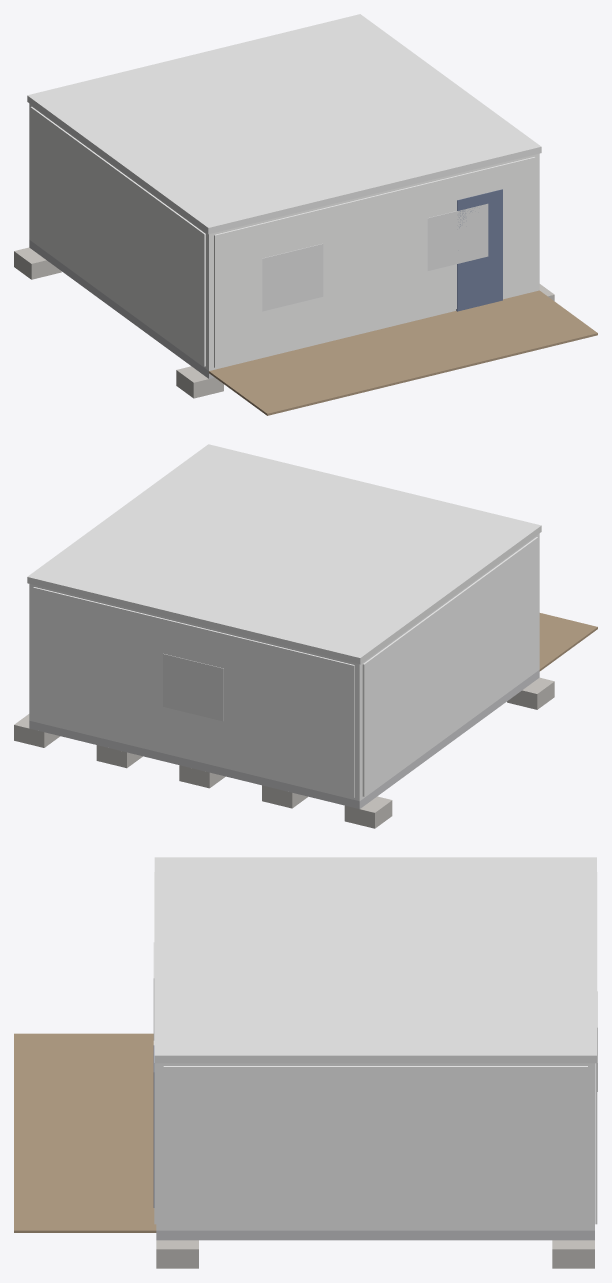
The model's file is Studio-20-TerraceDeck-LOD1.glb.
3 renders of one model, top to bottom at view 1: azimuth 30°, elevation 25°; view 2: azimuth 150°, elevation 25°; view 3: azimuth 270°, elevation 25°, orthographic. The views are drawn at different scales.
Parts seen in each view (by area): view 1: RoofMain, ExteriorPanelsStandard, TerraceDeck, WindowsStandard, ExteriorShell, EntryDoor, FoundationBlocks, BaseFrame; view 2: ExteriorPanelsStandard, RoofMain, FoundationBlocks, ExteriorShell, BaseFrame, WindowsStandard, TerraceDeck; view 3: RoofMain, ExteriorPanelsStandard, TerraceDeck, ExteriorShell, BaseFrame, FoundationBlocks.
Part boxes in pixels (bbox=[...]): RoofMain: bbox=[27, 14, 541, 234]; ExteriorPanelsStandard: bbox=[30, 106, 535, 367]; TerraceDeck: bbox=[209, 290, 597, 415]; WindowsStandard: bbox=[262, 203, 488, 311]; ExteriorShell: bbox=[29, 103, 539, 370]; EntryDoor: bbox=[456, 189, 502, 311]; FoundationBlocks: bbox=[14, 247, 554, 398]; BaseFrame: bbox=[29, 240, 214, 378]; ExteriorPanelsStandard: bbox=[33, 537, 538, 797]; RoofMain: bbox=[27, 444, 541, 664]; FoundationBlocks: bbox=[14, 677, 554, 828]; ExteriorShell: bbox=[29, 533, 539, 801]; BaseFrame: bbox=[29, 670, 539, 808]; WindowsStandard: bbox=[163, 653, 223, 721]; TerraceDeck: bbox=[539, 613, 597, 671]; RoofMain: bbox=[154, 857, 596, 1063]; ExteriorPanelsStandard: bbox=[154, 872, 597, 1228]; TerraceDeck: bbox=[14, 1033, 156, 1232]; ExteriorShell: bbox=[156, 1063, 594, 1230]; BaseFrame: bbox=[156, 1230, 594, 1240]; FoundationBlocks: bbox=[156, 1240, 594, 1268].
Size of the model in its own units: 7.14 by 3.17 by 8.2.
